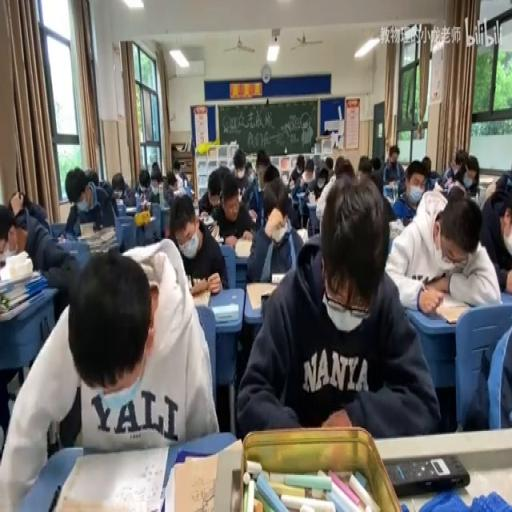calculator: (169, 452, 220, 512), (0, 291, 38, 320), (0, 268, 39, 294), (434, 296, 470, 323), (212, 302, 238, 322), (85, 240, 113, 256), (188, 287, 210, 307), (0, 244, 18, 268), (234, 238, 252, 258), (382, 181, 397, 202), (388, 218, 403, 238), (78, 219, 94, 236), (295, 226, 308, 243), (114, 199, 126, 215), (200, 212, 214, 225), (270, 273, 286, 283), (56, 234, 72, 244), (210, 222, 219, 239), (306, 189, 315, 205), (172, 186, 186, 196), (248, 208, 258, 222), (125, 203, 136, 212), (296, 191, 306, 199), (217, 236, 223, 243)
paper: (2, 236, 212, 511), (384, 184, 499, 307), (314, 156, 390, 234), (462, 311, 510, 431), (168, 194, 226, 292), (248, 180, 302, 282), (64, 165, 115, 236), (3, 189, 49, 238), (396, 155, 430, 216), (228, 148, 253, 196), (439, 148, 468, 188), (382, 142, 404, 189), (109, 169, 134, 208), (308, 162, 330, 201), (134, 165, 156, 202), (493, 174, 512, 208), (289, 152, 305, 186), (367, 166, 385, 196), (334, 156, 354, 180), (262, 164, 280, 188), (464, 158, 478, 183), (446, 180, 464, 198), (166, 171, 178, 192), (208, 183, 221, 202), (86, 168, 99, 186), (433, 180, 449, 194), (98, 178, 112, 193), (358, 154, 370, 170), (421, 155, 431, 174), (304, 160, 314, 178), (371, 155, 382, 171), (171, 158, 181, 173), (324, 155, 333, 171), (427, 170, 440, 180), (313, 155, 320, 171), (151, 169, 160, 181), (181, 175, 189, 188)
person: (386, 452, 470, 496), (260, 292, 270, 312)
